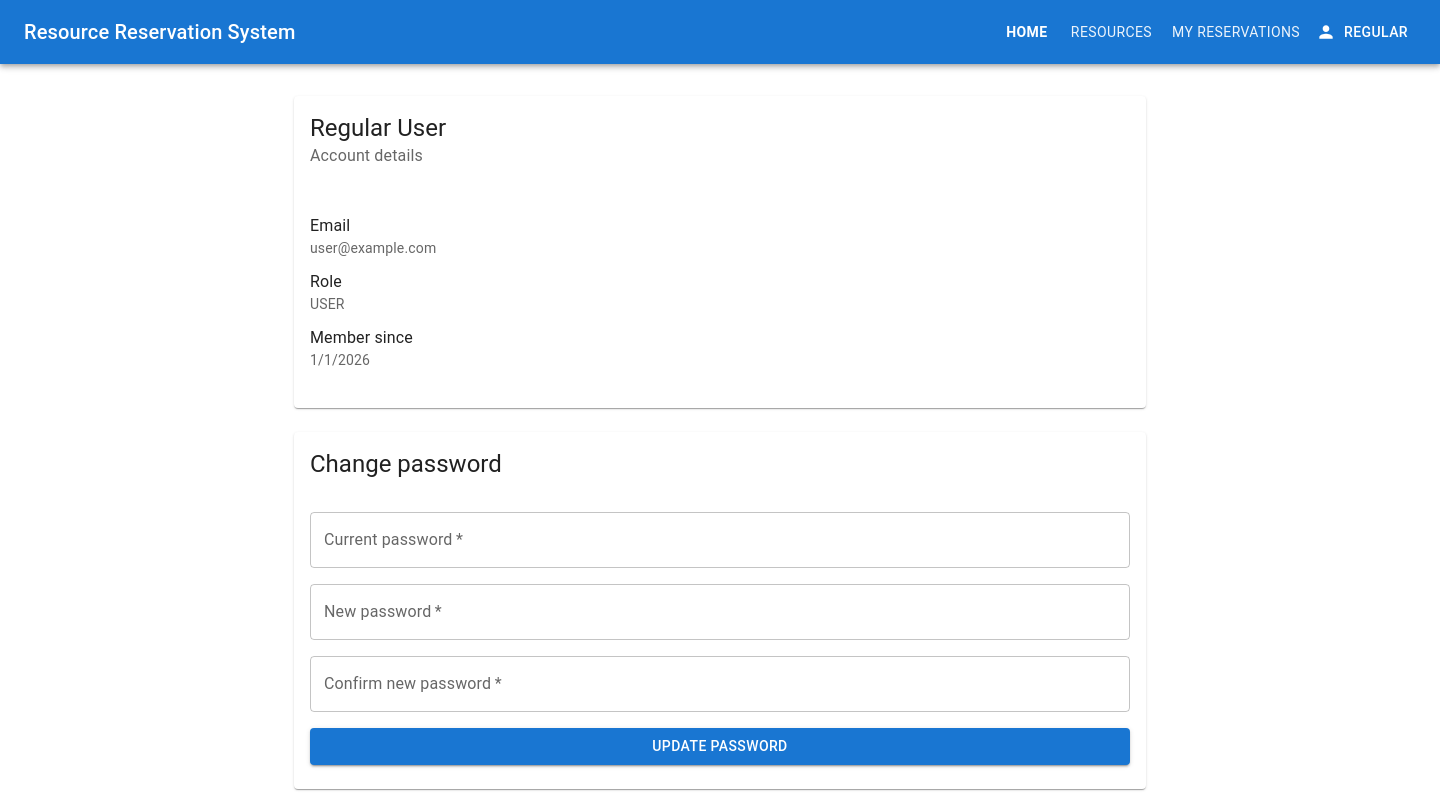
Scenario: ProfilePage › submits password change successfully
The width and height of the screenshot is (1440, 793).
Type "password123" into the password field labelled "Current password *" at (720, 540), box [310,512,1130,568]
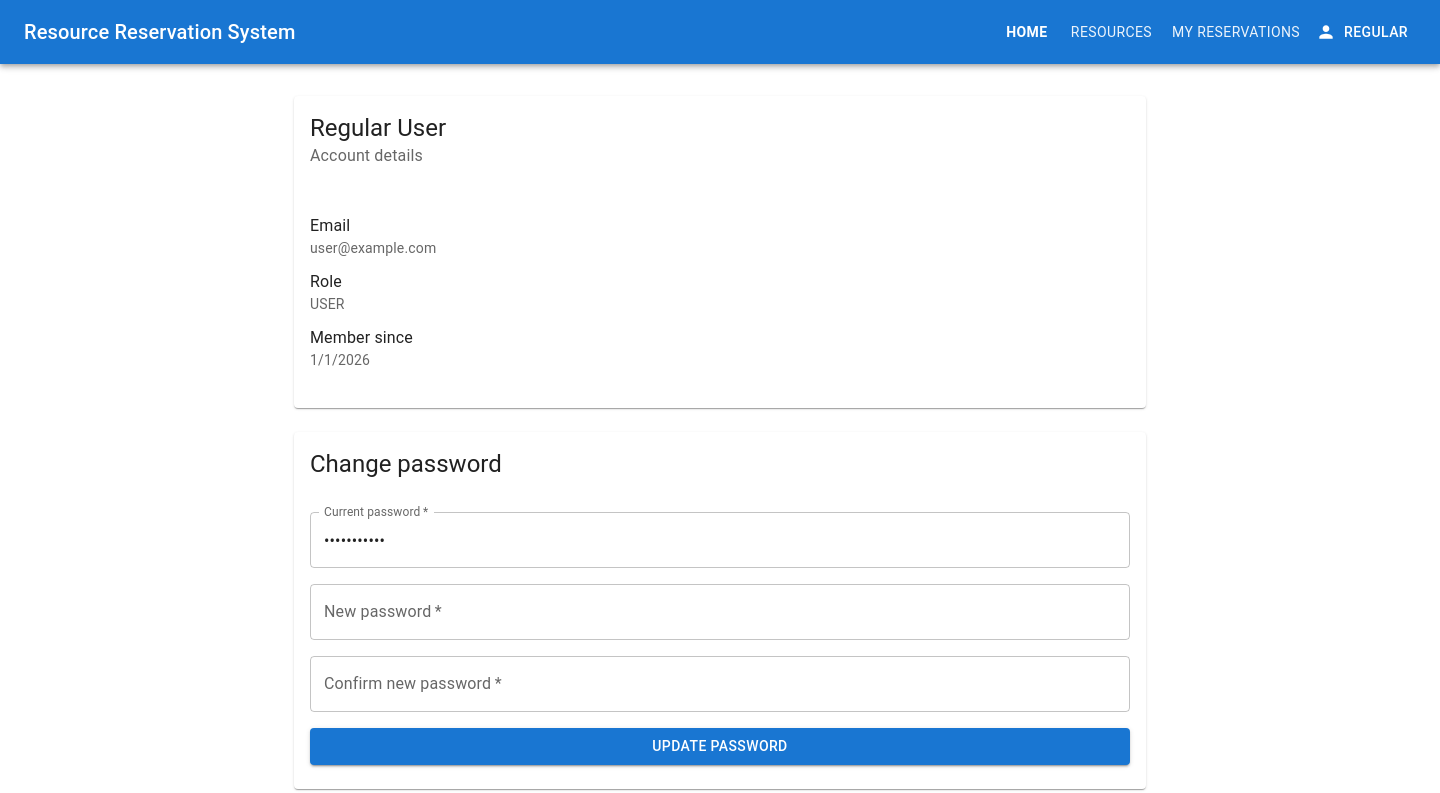
Type "newpassword123" into the password field labelled "New password *" at (720, 612), box [310,584,1130,640]
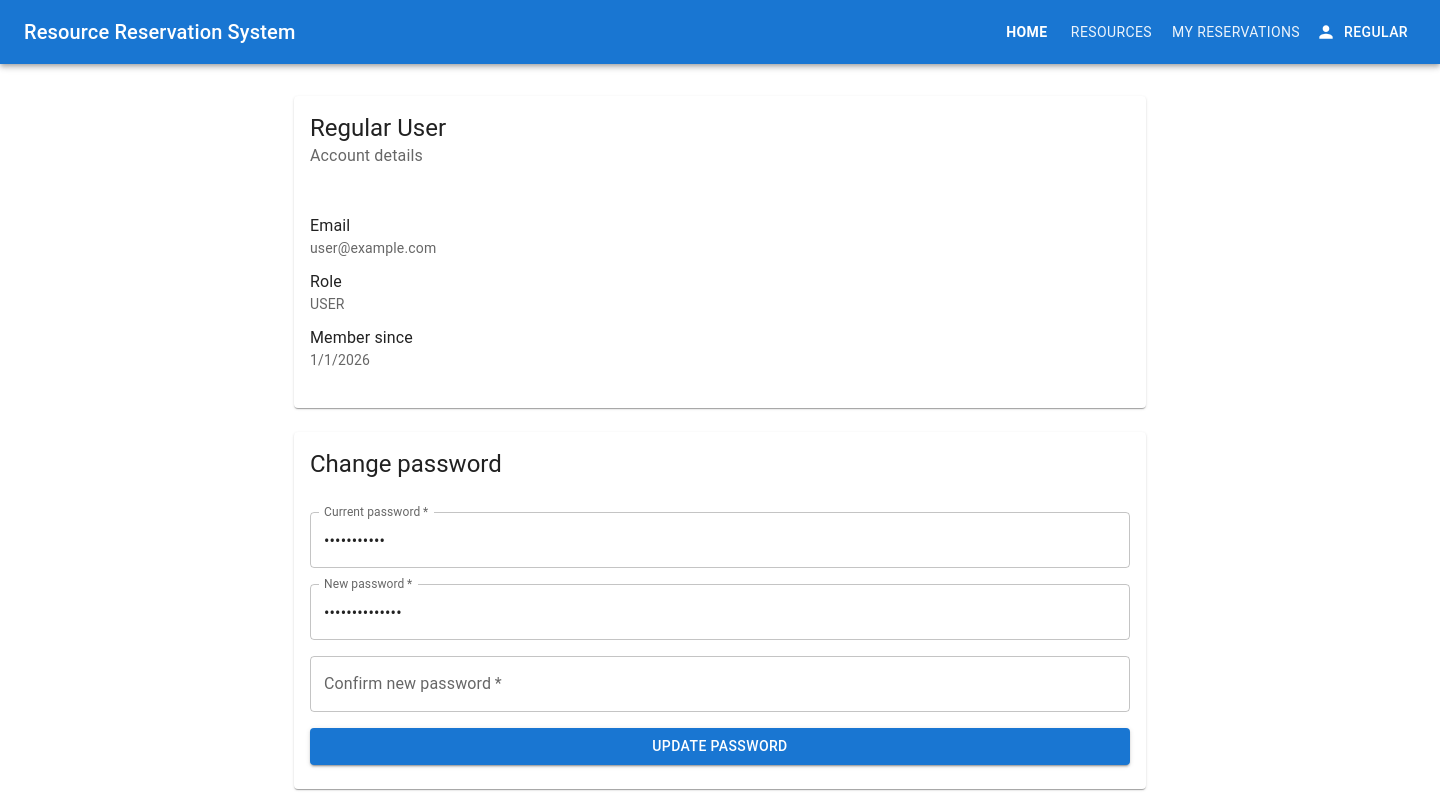
Type "newpassword123" into the password field labelled "Confirm new password *" at (720, 684), box [310,656,1130,712]
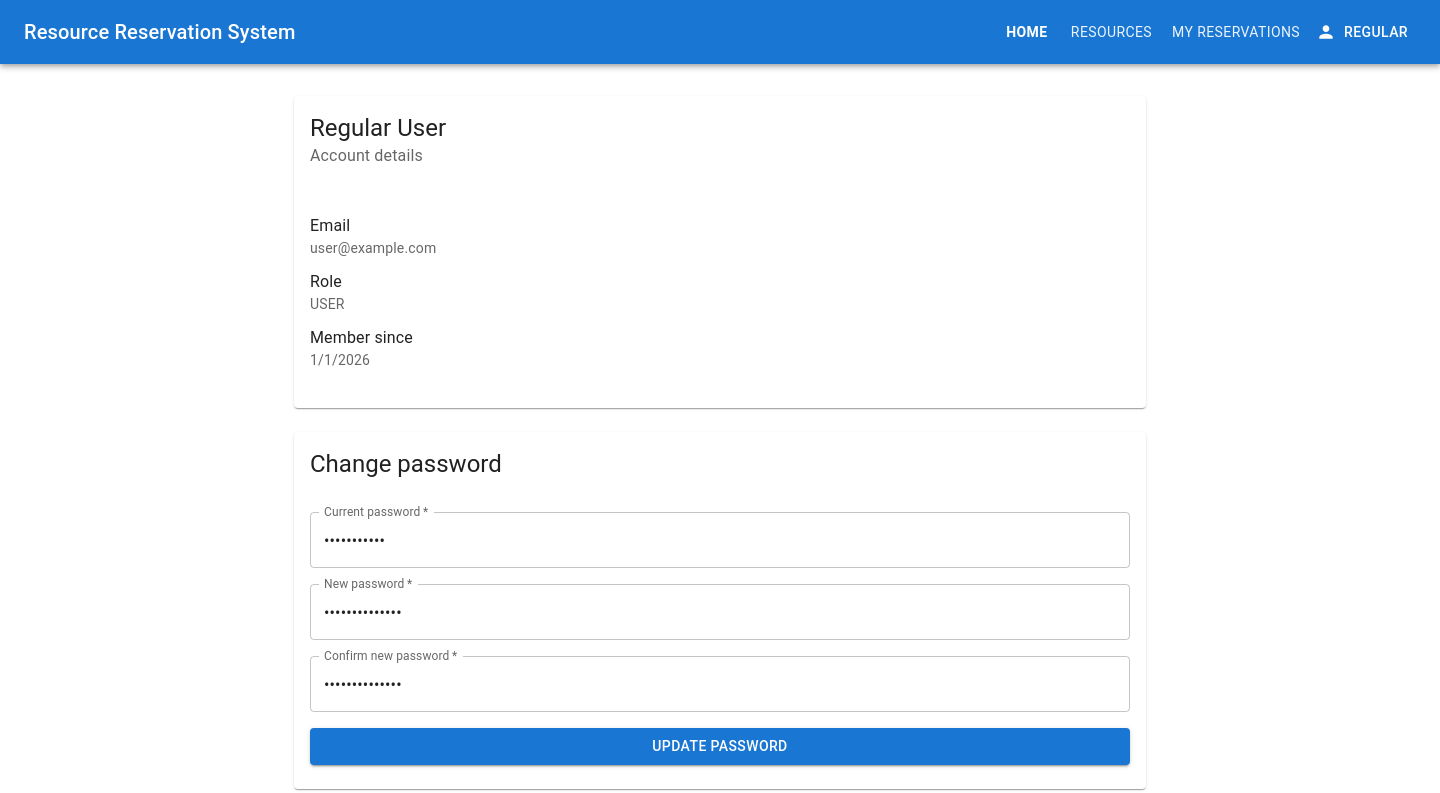
Click the button "Update password" at (720, 746), box [310,728,1130,765]
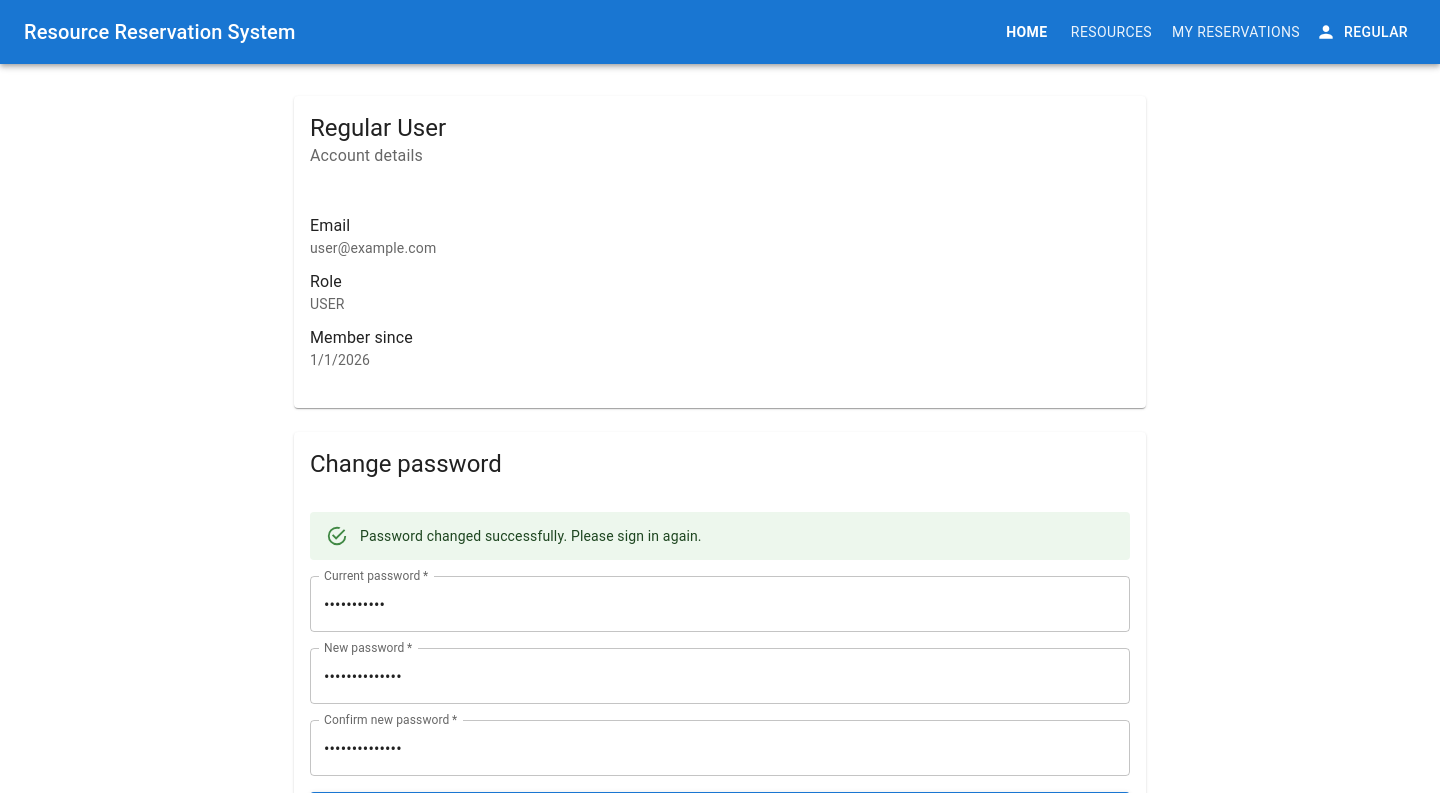
Result: the text "Password changed successfully. Please sign in again." is shown at [360,528,702,544]
